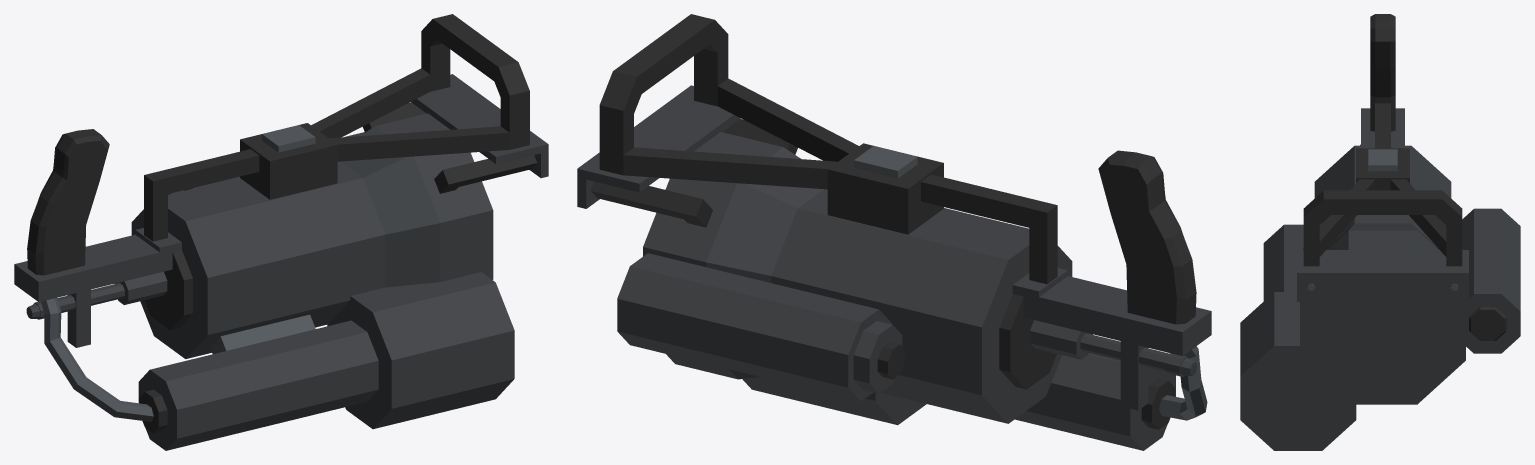
The model's file is LMG1_02.fbx.
3 views of the same model, side by side, from view 1: azimuth 30°, elevation 25°; view 2: azimuth 150°, elevation 25°; view 3: azimuth 270°, elevation 25° (orthographic). The views are drawn at different scales.
Parts seen in each view (by area): view 1: LMG1_02; view 2: LMG1_02; view 3: LMG1_02.
Boxes of the visible parts, bbox=[...] form: LMG1_02: bbox=[14, 14, 548, 450]; LMG1_02: bbox=[577, 14, 1211, 450]; LMG1_02: bbox=[1240, 14, 1520, 450].
Size of the model in its own units: 0.6461 by 0.3998 by 0.3673.
